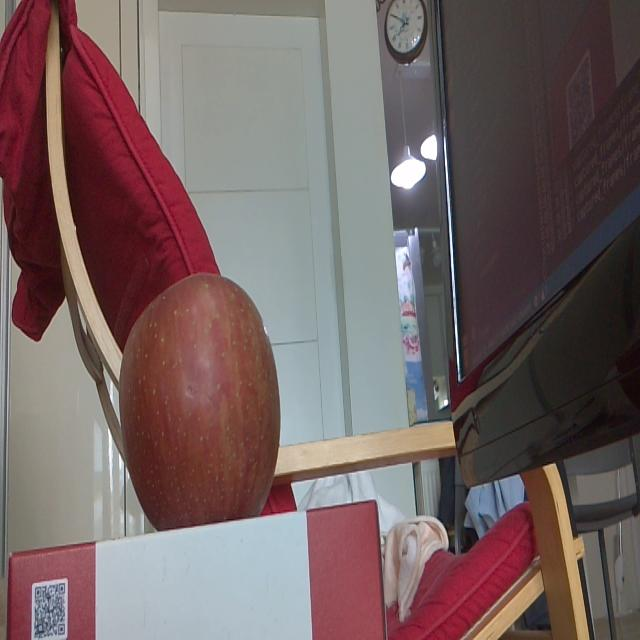apple: (120, 274, 280, 512)
